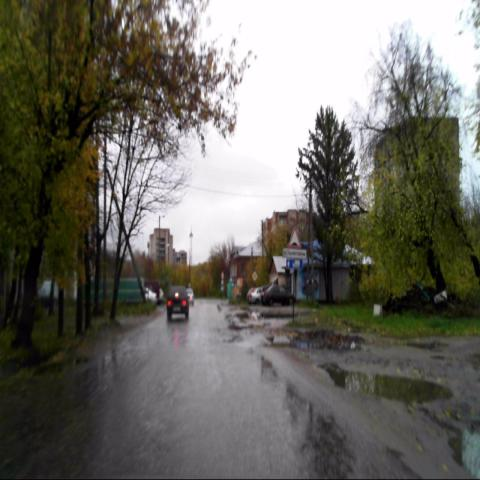1_17: (288, 227, 300, 248)
